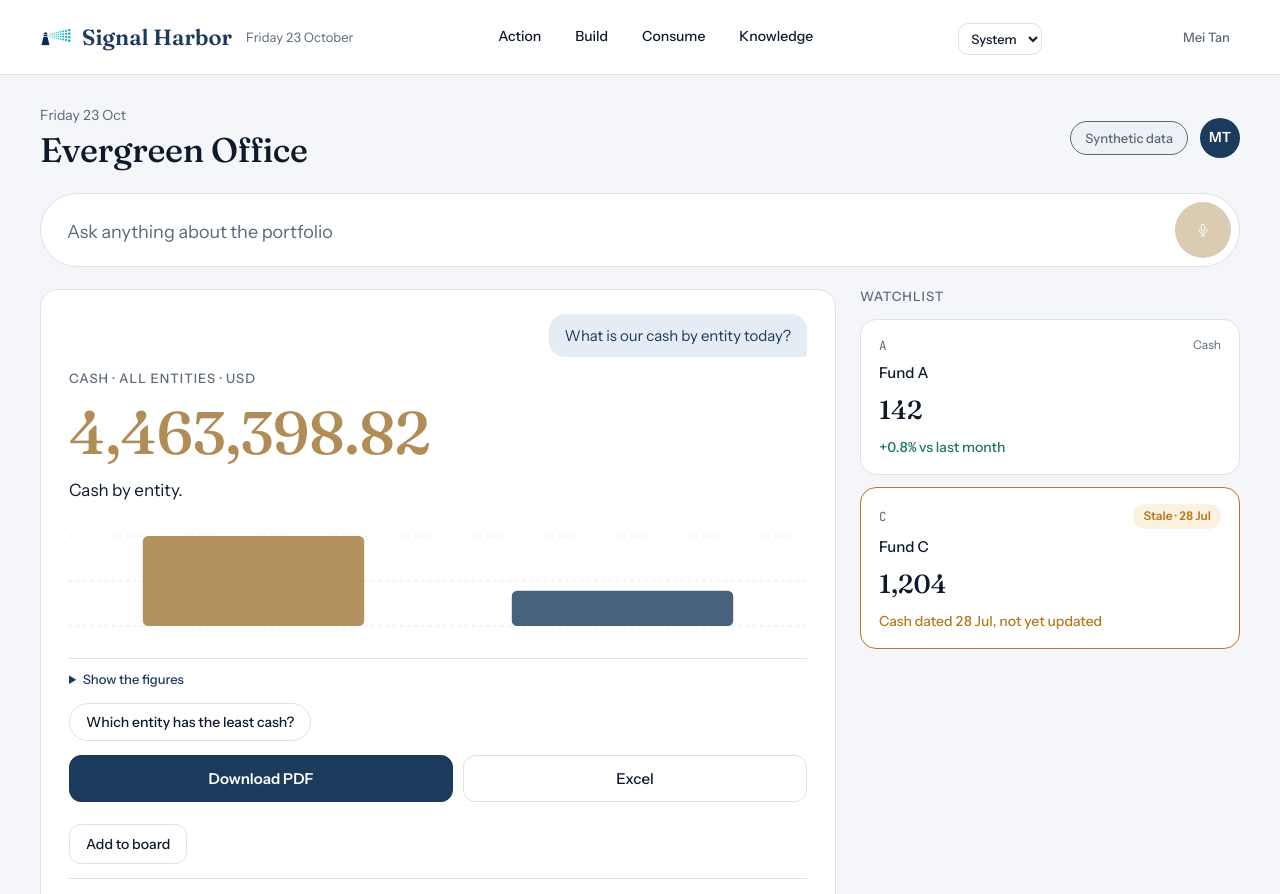
Scenario: asking runs the question and a follow-up chip asks again
The image size is (1280, 894).
Type "Which entity has the least cash?" into the field labelled "Ask anything about the numbers" at (615, 232), box [67, 206, 1163, 258]
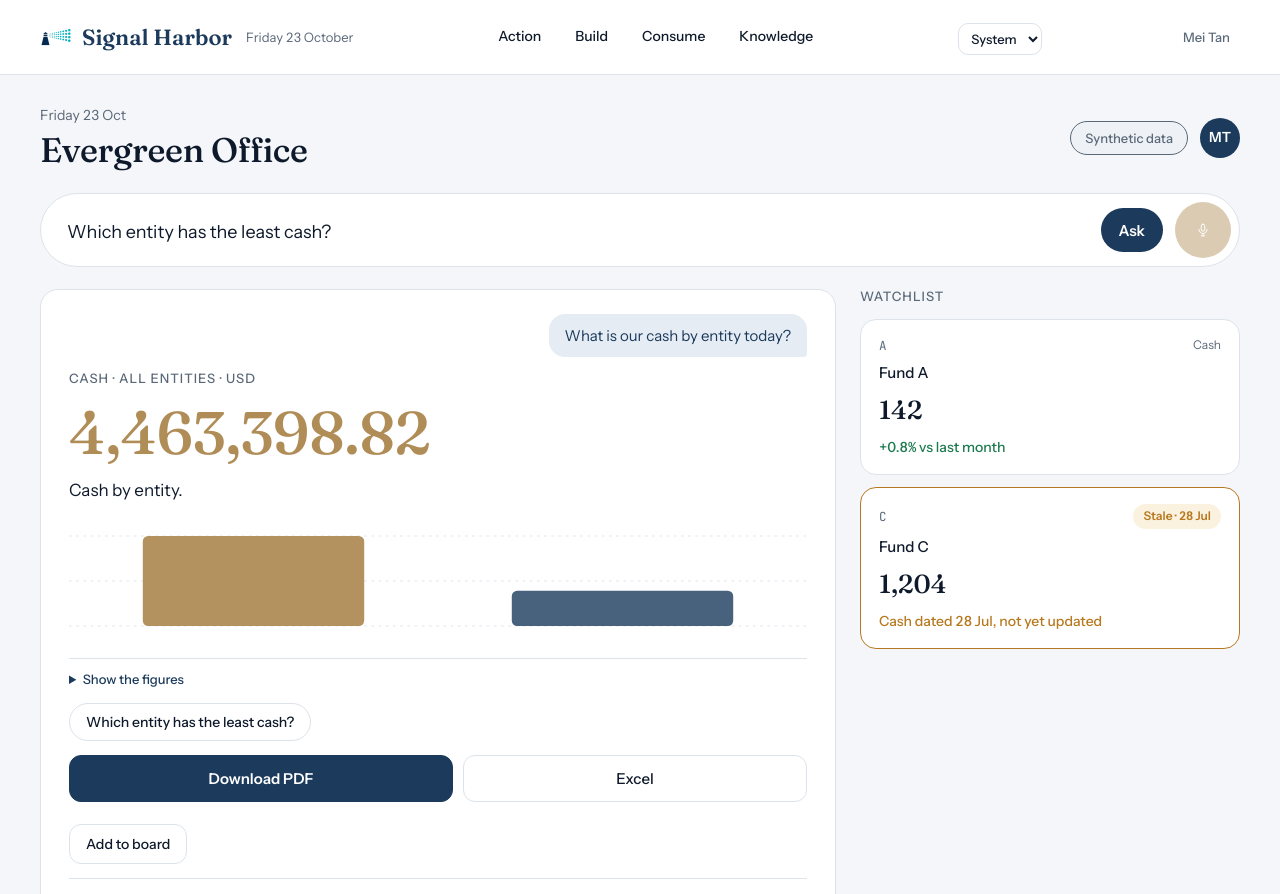
Click the button "Ask" at (1132, 230), box [1100, 208, 1163, 252]
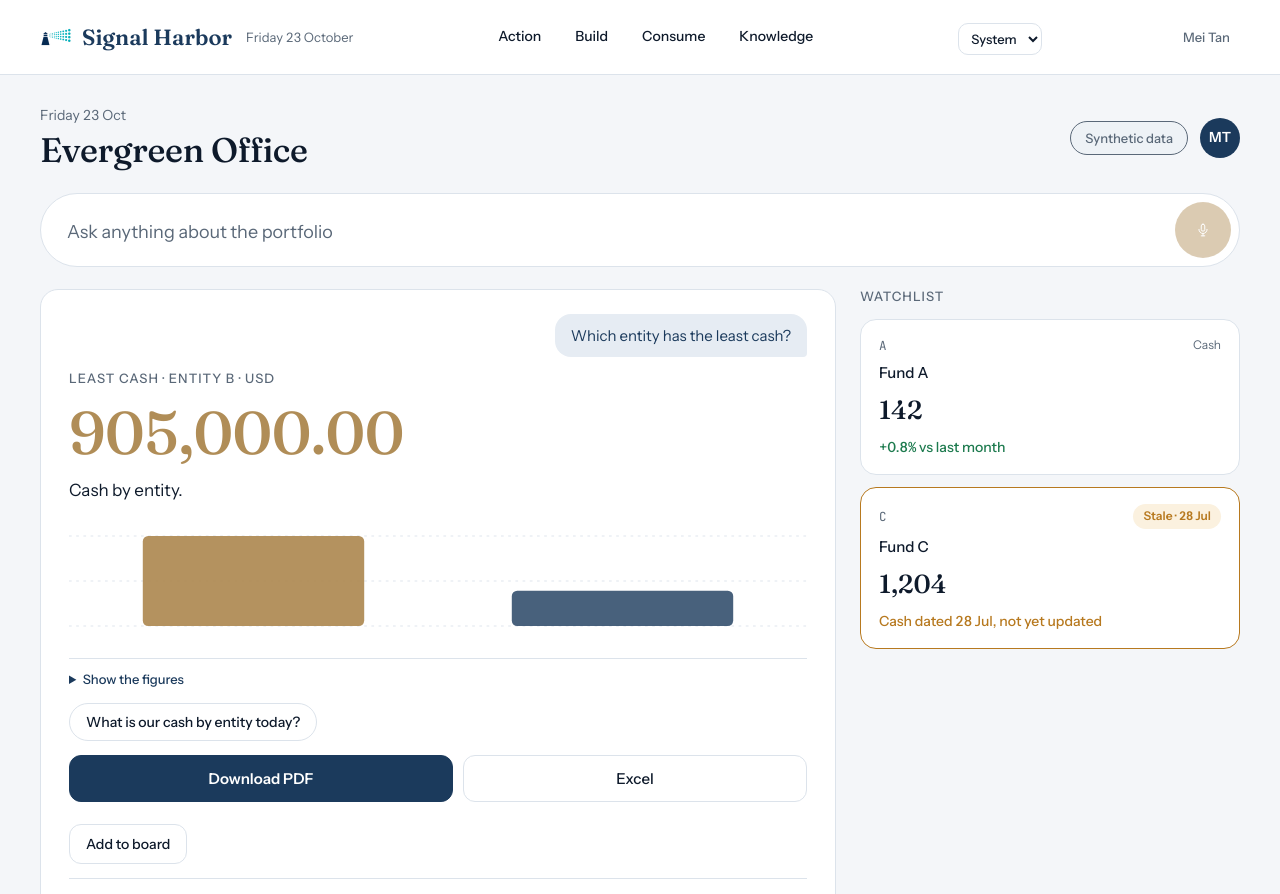
Result: the heading "Least cash · Entity B · USD" is shown at [69, 370, 275, 386]
Result: the button "What is our cash by entity today?" is shown at [69, 703, 317, 741]
